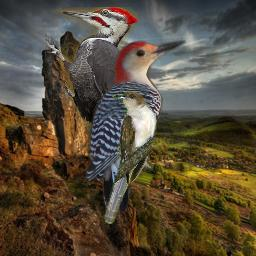Cuckoo: (104, 91, 157, 224)
Woodpecker: (45, 7, 140, 193), (85, 40, 186, 211)
